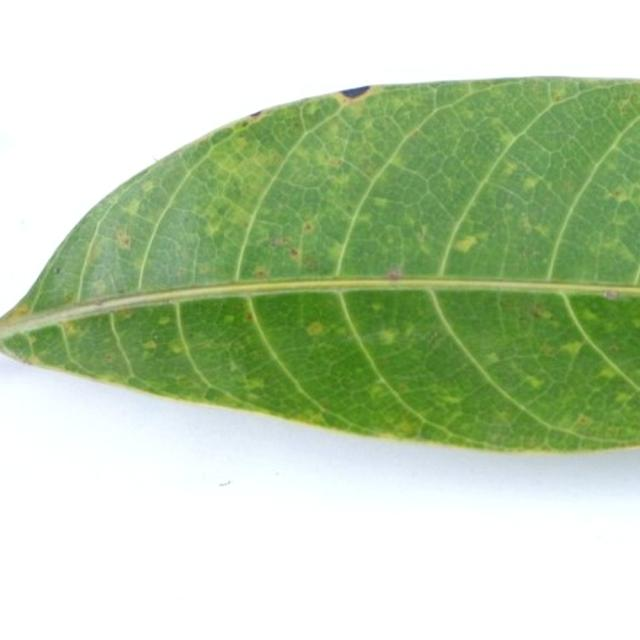Mango: (0, 78, 639, 450)
Powdery_Mildew: (368, 328, 408, 353), (612, 240, 640, 267), (82, 238, 104, 265), (453, 235, 479, 253), (615, 93, 635, 116), (121, 197, 143, 217), (203, 219, 224, 239), (326, 244, 347, 263), (560, 341, 584, 357), (115, 228, 132, 250), (368, 384, 391, 400), (329, 172, 352, 187), (395, 419, 418, 434), (415, 224, 430, 246), (596, 367, 619, 381), (522, 175, 542, 191), (243, 377, 265, 391), (303, 409, 325, 423), (90, 279, 107, 297), (580, 307, 600, 322), (531, 305, 551, 320), (524, 375, 545, 389), (306, 321, 325, 336), (498, 131, 517, 146), (610, 188, 630, 202), (10, 304, 30, 318), (167, 339, 185, 354), (252, 265, 270, 279), (441, 393, 463, 404), (302, 256, 318, 271), (483, 352, 500, 366), (370, 196, 391, 207), (233, 136, 249, 150), (551, 88, 567, 102), (386, 268, 403, 281), (354, 212, 372, 224), (63, 322, 78, 336), (271, 236, 290, 247), (141, 339, 158, 351), (614, 391, 631, 403), (198, 263, 215, 275), (141, 180, 155, 194), (227, 357, 240, 372), (576, 415, 592, 426), (327, 157, 343, 168), (604, 289, 619, 299), (157, 316, 172, 325), (63, 293, 74, 304), (103, 353, 115, 363), (222, 314, 235, 323), (370, 302, 383, 311), (244, 311, 254, 321), (303, 222, 313, 232), (53, 267, 61, 274)
